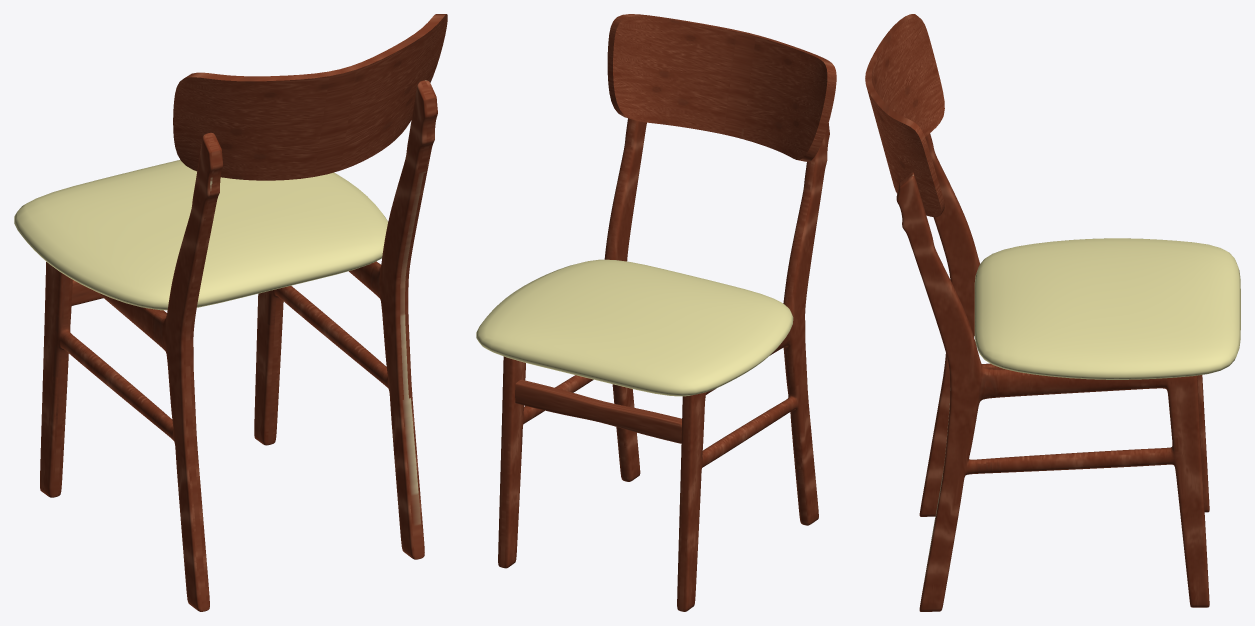
File: dining_chair.glb
3 renders of one model, left to right at view 1: azimuth 30°, elevation 25°; view 2: azimuth 150°, elevation 25°; view 3: azimuth 270°, elevation 25°, orthographic. The views are drawn at different scales.
Visible parts, largest first — view 1: Cube.004_Cube.001; view 2: Cube.004_Cube.001; view 3: Cube.004_Cube.001.
Part boxes in pixels (box(x1,y1,x2,y2)): Cube.004_Cube.001: box(14, 14, 447, 611); Cube.004_Cube.001: box(476, 14, 836, 611); Cube.004_Cube.001: box(865, 14, 1240, 611).
Size of the model in its own units: 4.45 by 7.58 by 5.23.
Materials: 2 (1 with a texture image).
